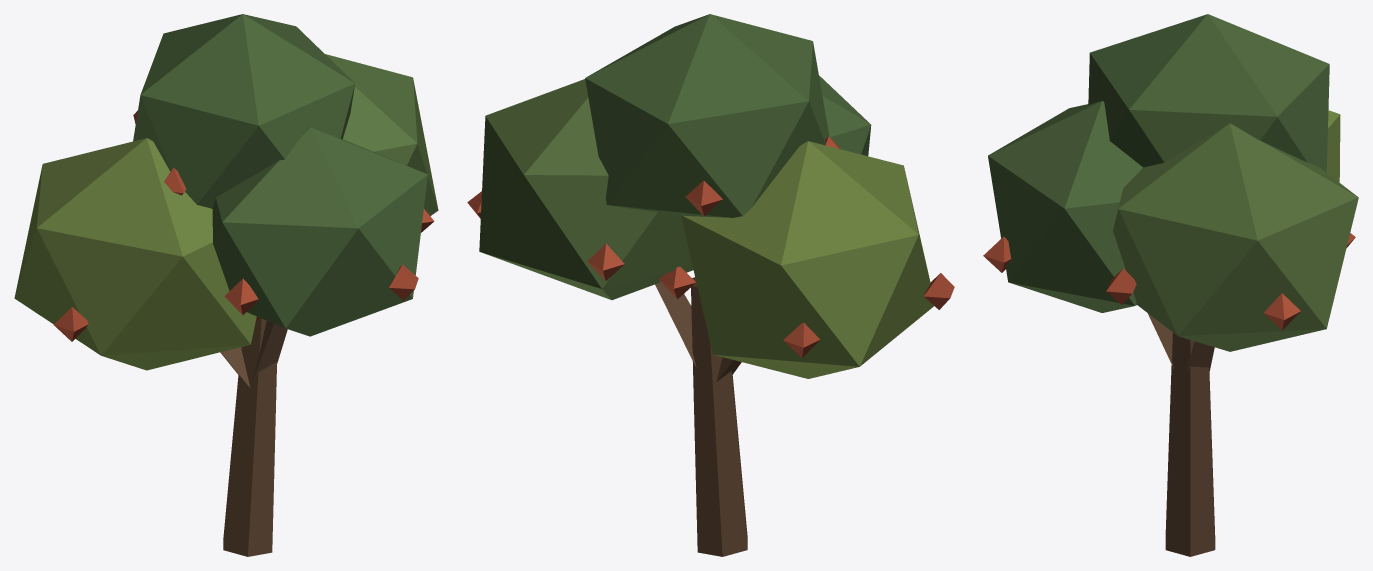
File: apple_tree.glb
3 renders of one model, left to right at view 1: azimuth 30°, elevation 25°; view 2: azimuth 150°, elevation 25°; view 3: azimuth 270°, elevation 25°, orthographic. The views are drawn at different scales.
Visible parts, largest first — view 1: apple_tree; view 2: apple_tree; view 3: apple_tree.
Part boxes in pixels (bbox=[...]): apple_tree: bbox=[14, 14, 438, 556]; apple_tree: bbox=[467, 14, 954, 556]; apple_tree: bbox=[983, 14, 1358, 556].
Bounding box in the file's own units: 2.18 × 2.67 × 1.71.
